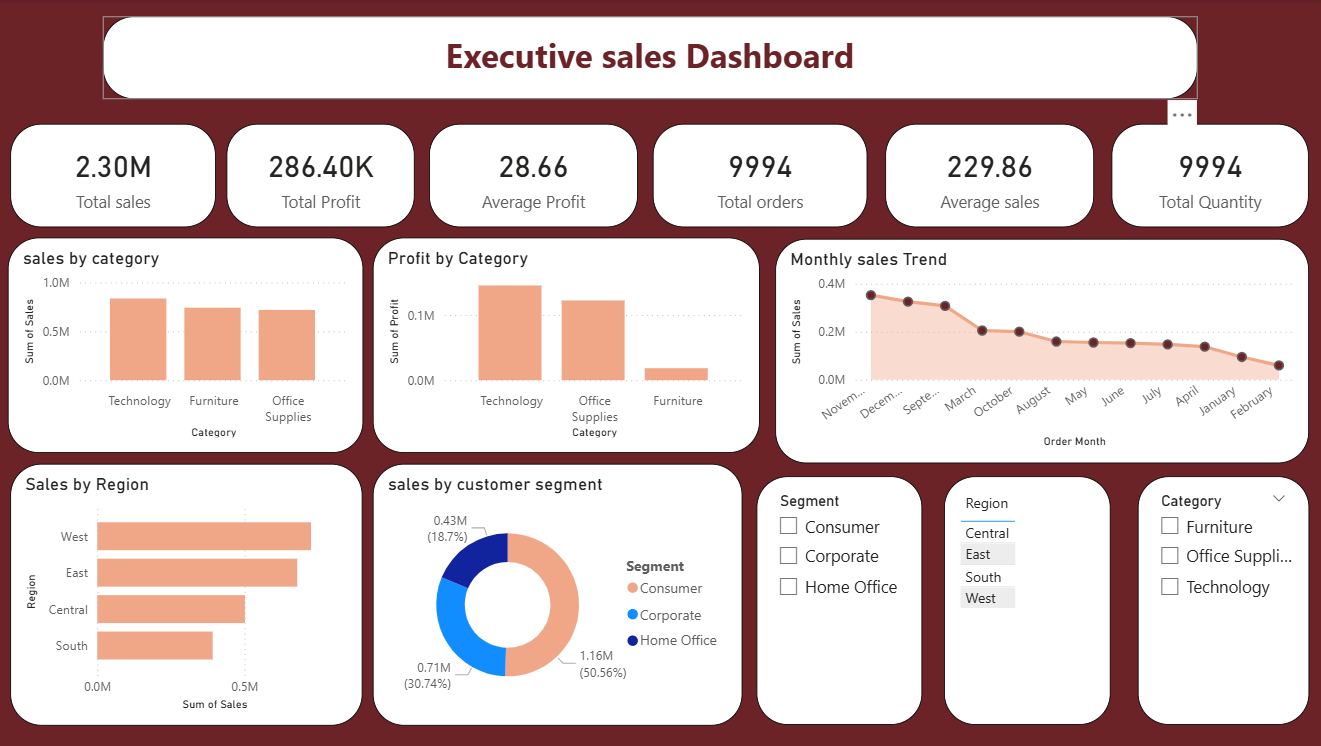

The page's visual inventory and layout, read from the dashboard file:
{"tool":"powerbi","page":{"name":"Executive sales dashboard","canvas":[1280,720],"ordinal":0},"visuals":[{"type":"card","fields":{"Values":["superstore.Total sales"]},"box":[11.1,119.4,198.6,100],"z":0},{"type":"card","fields":{"Values":["superstore.Total Profit"]},"box":[219.4,119.4,181.9,100],"z":1},{"type":"card","fields":{"Values":["superstore.Average Profit"]},"box":[415.3,119.4,201.4,100],"z":2},{"type":"card","fields":{"Values":["superstore.Average sales"]},"box":[855.6,119.4,201.4,100],"z":3},{"type":"card","fields":{"Values":["superstore.Total Quantity"]},"box":[1073.6,119.4,190.3,100],"z":4},{"type":"card","fields":{"Values":["superstore.Total orders"]},"box":[630.6,119.4,206.9,100],"z":5},{"type":"clusteredColumnChart","title":"sales by category","fields":{"Category":["superstore.Category"],"Y":["Sum(superstore.Sales)"]},"box":[8.3,229.2,343.1,208.3],"z":6},{"type":"clusteredColumnChart","title":"Profit by Category","fields":{"Category":["superstore.Category"],"Y":["Sum(superstore.Profit)"]},"box":[361.1,229.2,373.6,208.3],"z":7},{"type":"clusteredBarChart","title":"Sales by Region","fields":{"Category":["superstore.Region"],"Y":["Sum(superstore.Sales)"]},"box":[11.1,447.2,340.3,252.8],"z":8},{"type":"donutChart","title":"sales by customer segment","fields":{"Y":["Sum(superstore.Sales)"],"Category":["superstore.Segment"]},"box":[361.1,447.2,356.9,252.8],"z":9},{"type":"lineChart","title":"Monthly sales Trend","fields":{"Y":["Sum(superstore.Sales)"],"Category":["superstore.Order Month"]},"box":[748.6,230.6,515.3,216.7],"z":10},{"type":"slicer","fields":{"Values":["superstore.Segment"]},"box":[730.6,459.7,159.7,240.3],"z":11},{"type":"slicer","fields":{"Values":["superstore.Category"]},"box":[1098.6,459.7,165.3,240.3],"z":12},{"type":"tableEx","fields":{"Values":["superstore.Region"]},"box":[912.5,459.7,161.1,240.3],"z":13},{"type":"textbox","box":[100,15.9,1056.5,79.7],"z":14}]}

Visuals, with their boxes in screenshot pixels (x1, y1, x2, y2), scaled from the page's 1280x720 canvas onto the 1321x746 screenshot:
card - superstore.Total sales: Rect(11, 124, 216, 227)
card - superstore.Total Profit: Rect(226, 124, 414, 227)
card - superstore.Average Profit: Rect(429, 124, 636, 227)
card - superstore.Average sales: Rect(883, 124, 1091, 227)
card - superstore.Total Quantity: Rect(1108, 124, 1304, 227)
card - superstore.Total orders: Rect(651, 124, 864, 227)
"sales by category" clusteredColumnChart: Rect(9, 237, 363, 453)
"Profit by Category" clusteredColumnChart: Rect(373, 237, 758, 453)
"Sales by Region" clusteredBarChart: Rect(11, 463, 363, 725)
"sales by customer segment" donutChart: Rect(373, 463, 741, 725)
"Monthly sales Trend" lineChart: Rect(773, 239, 1304, 463)
slicer - superstore.Segment: Rect(754, 476, 919, 725)
slicer - superstore.Category: Rect(1134, 476, 1304, 725)
tableEx - superstore.Region: Rect(942, 476, 1108, 725)
textbox: Rect(103, 16, 1194, 99)
